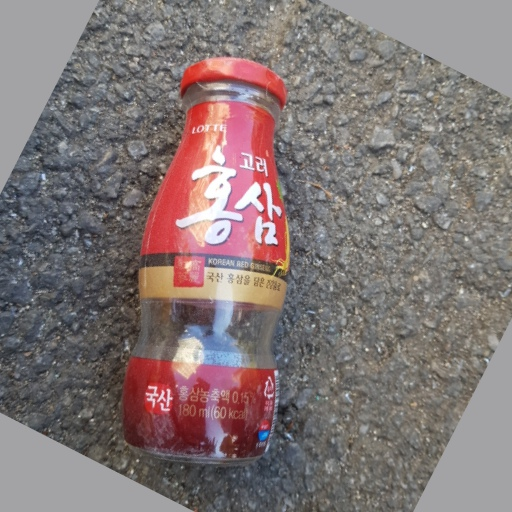Glass_4: (122, 53, 291, 463)
